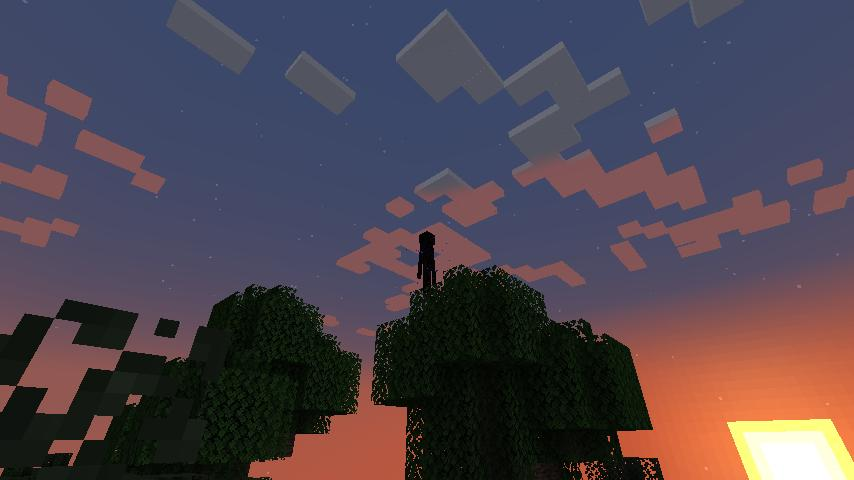enderman: (415, 229, 439, 293)
